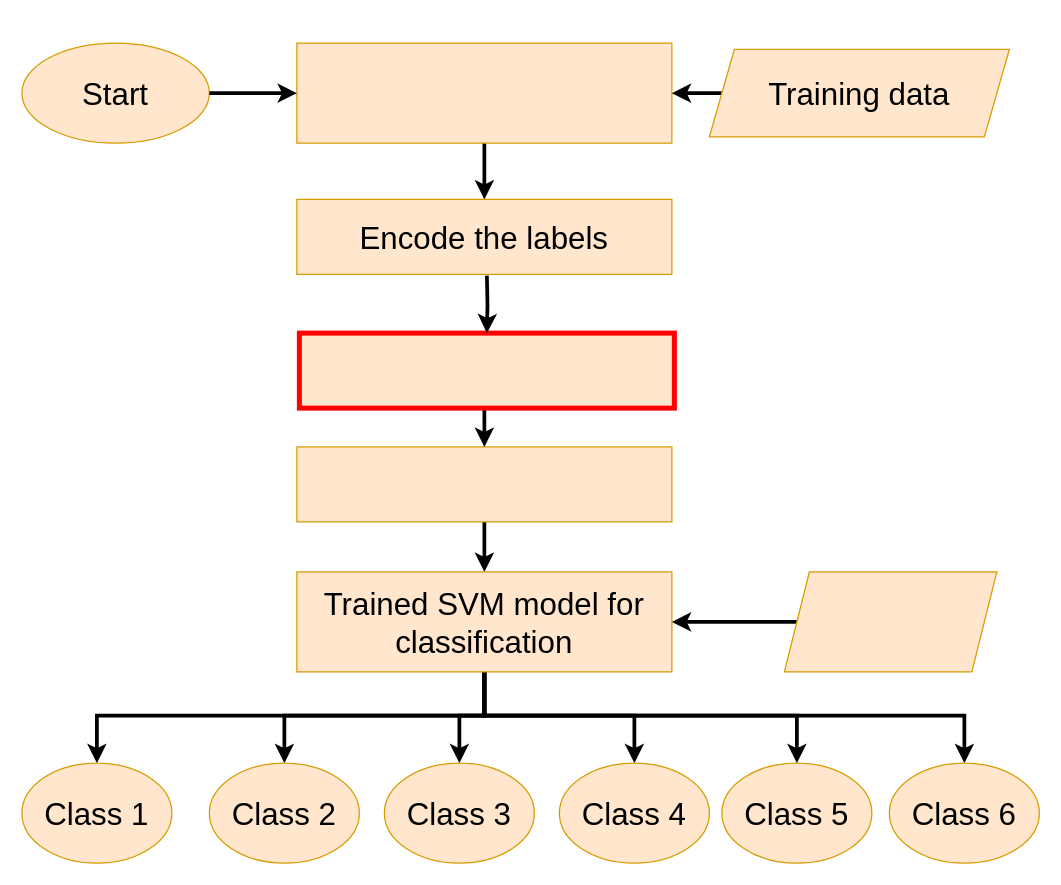
Some shapes in this 1061 by 885 pixel diagram are drawn without their labels. The shapes that lost their labels are listed below. From the top down, each one's centre as x and y in pixels, then its label:
(x=484, y=92): Import training Data set
(x=486, y=370): Calculate LBP feature
(x=484, y=484): SVM training
(x=890, y=621): Test data
